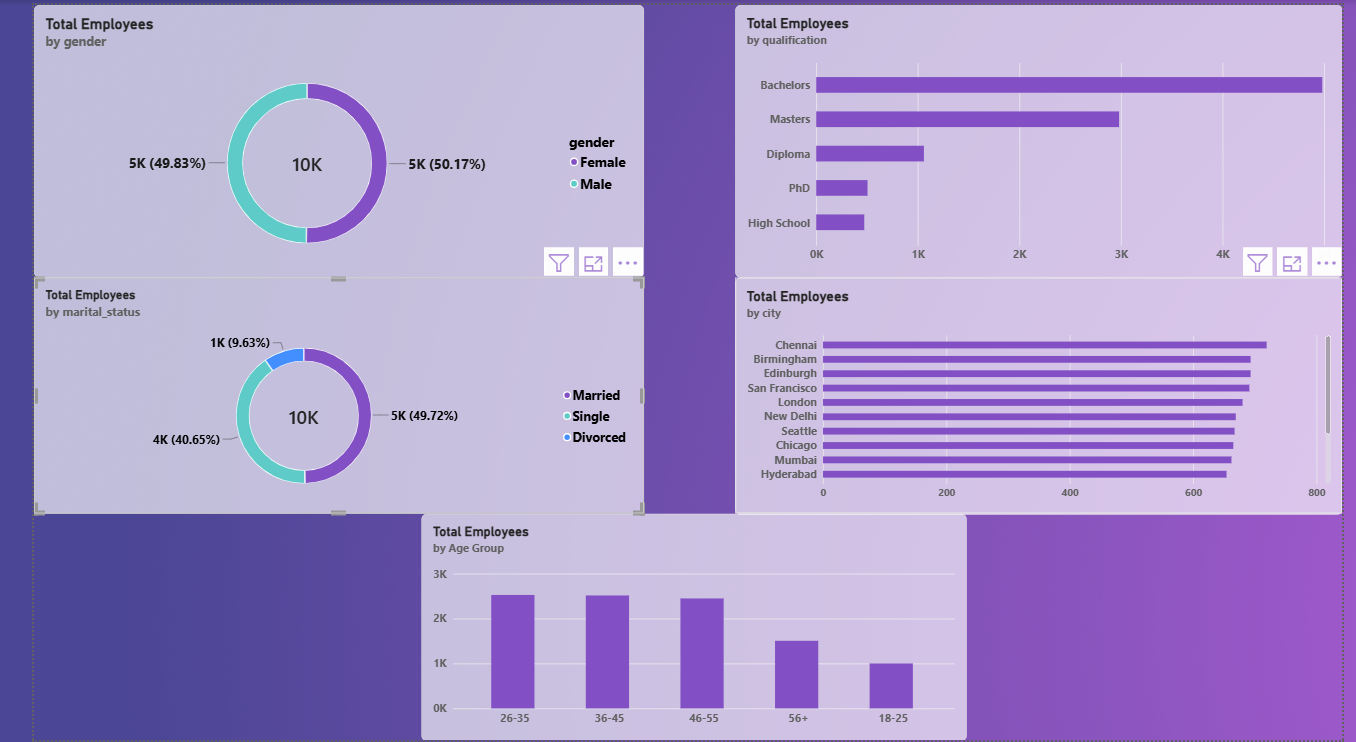

The page's visual inventory and layout, read from the dashboard file:
{"tool":"powerbi","page":{"name":"Workforce Demographics","canvas":[1920,1080],"ordinal":4},"visuals":[{"type":"donutChart","fields":{"Category":["DimEmployee.gender"],"Y":["emp_info.Total Employees"]},"box":[0,0,895.1,399.9],"z":0},{"type":"clusteredBarChart","fields":{"Category":["emp_info.qualification"],"Y":["emp_info.Total Employees"]},"box":[1029,0,891.4,399.9],"z":1000},{"type":"donutChart","fields":{"Category":["emp_info.marital_status"],"Y":["emp_info.Total Employees"]},"box":[0,399.9,895.1,346.7],"z":2000},{"type":"clusteredBarChart","fields":{"Category":["emp_info.city"],"Y":["emp_info.Total Employees"]},"box":[1029.2,399.3,891.3,347.9],"z":3000},{"type":"columnChart","fields":{"Category":["emp_info.Age Group"],"Y":["emp_info.Total Employees"]},"box":[568.6,746.5,799.7,333.8],"z":4000}]}

Visuals, with their boxes in screenshot pixels (x1, y1, x2, y2), scaled from the page's 1920x1080 canvas onto the 1356x742 screenshot:
donutChart - DimEmployee.gender x emp_info.Total Employees: Rect(0, 0, 632, 275)
clusteredBarChart - emp_info.qualification x emp_info.Total Employees: Rect(727, 0, 1355, 275)
donutChart - emp_info.marital_status x emp_info.Total Employees: Rect(0, 275, 632, 513)
clusteredBarChart - emp_info.city x emp_info.Total Employees: Rect(727, 274, 1355, 513)
columnChart - emp_info.Age Group x emp_info.Total Employees: Rect(402, 513, 966, 741)
